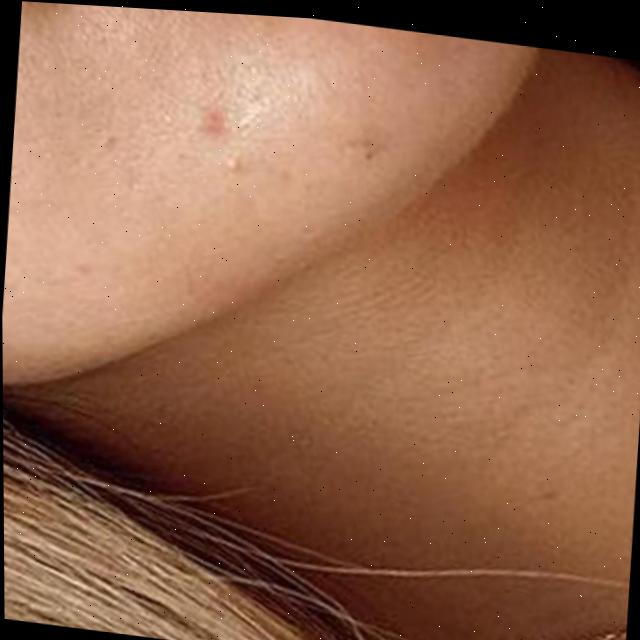Acne: (189, 94, 257, 141)
